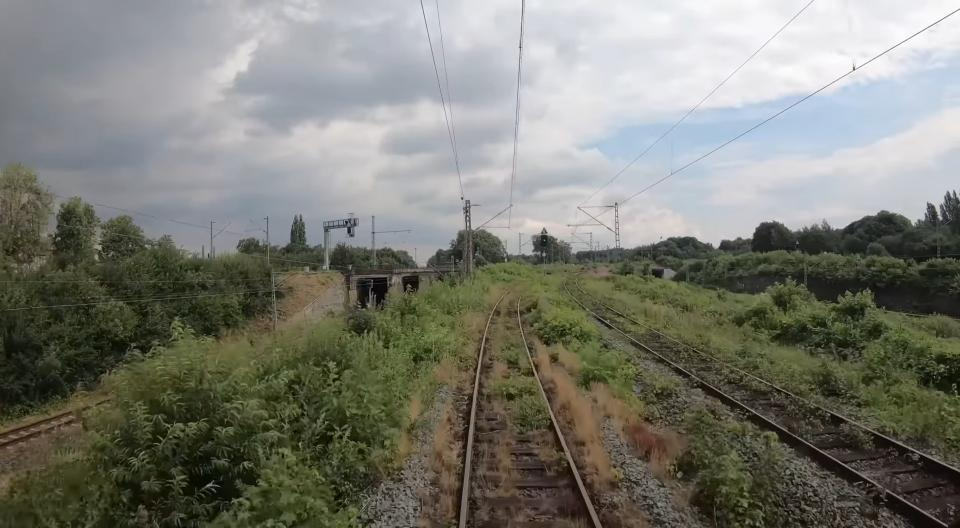Plant: (582, 278, 960, 468), (522, 281, 788, 528), (567, 284, 831, 443), (372, 283, 510, 528), (476, 289, 552, 441), (476, 434, 518, 502), (531, 434, 566, 474), (853, 480, 888, 515), (836, 421, 873, 452), (548, 514, 589, 528), (476, 500, 493, 520), (902, 453, 924, 468), (882, 446, 898, 463), (516, 287, 520, 288)
